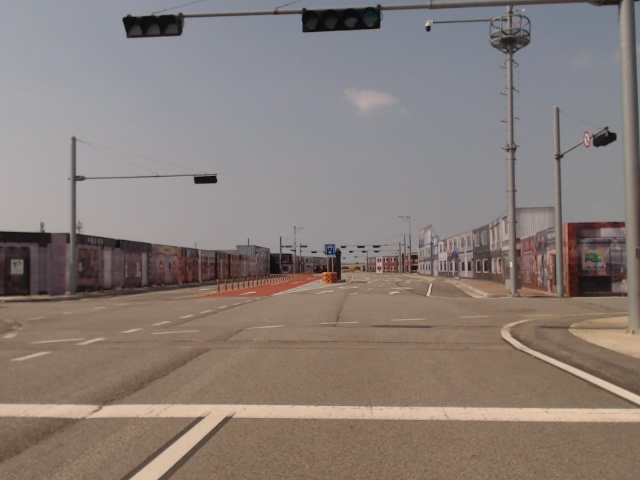straight_green_4: (306, 9, 380, 31)
